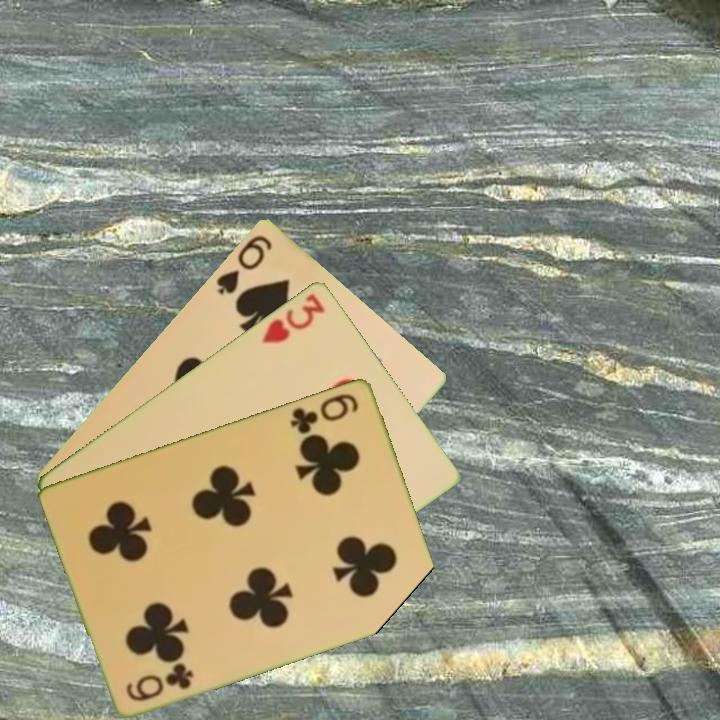3h: (258, 289, 328, 346)
6c: (286, 389, 362, 437), (123, 659, 197, 704)
6s: (213, 231, 275, 297)
